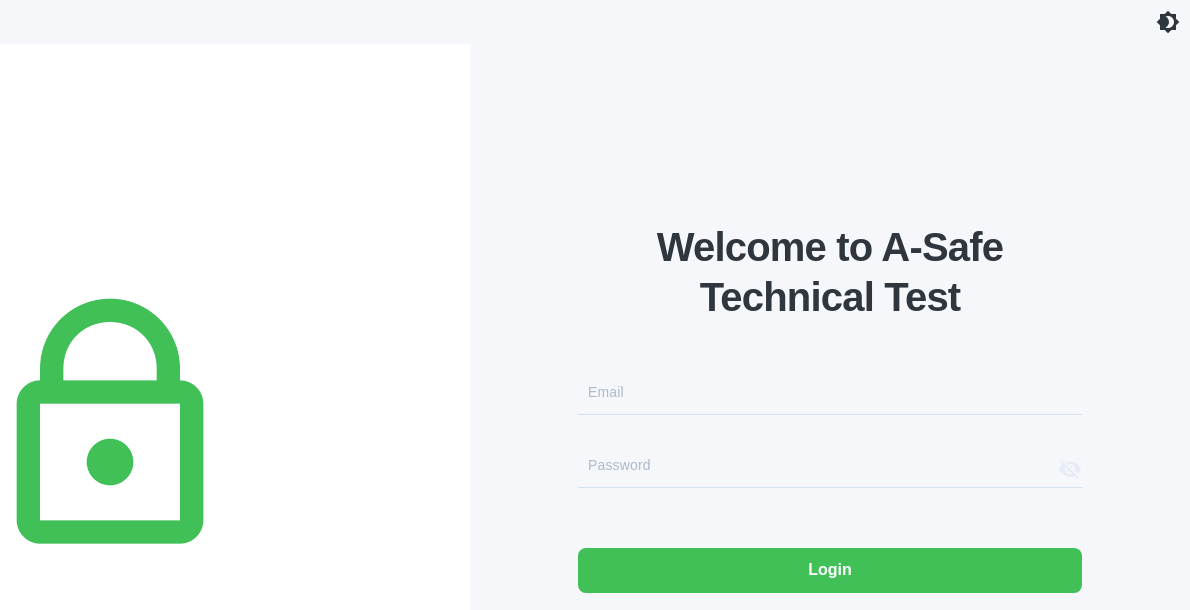
Scenario: SignIn Page › displays validation errors for empty fields
Click the button "Login".
click(830, 570)  # box [578,548,1082,593]
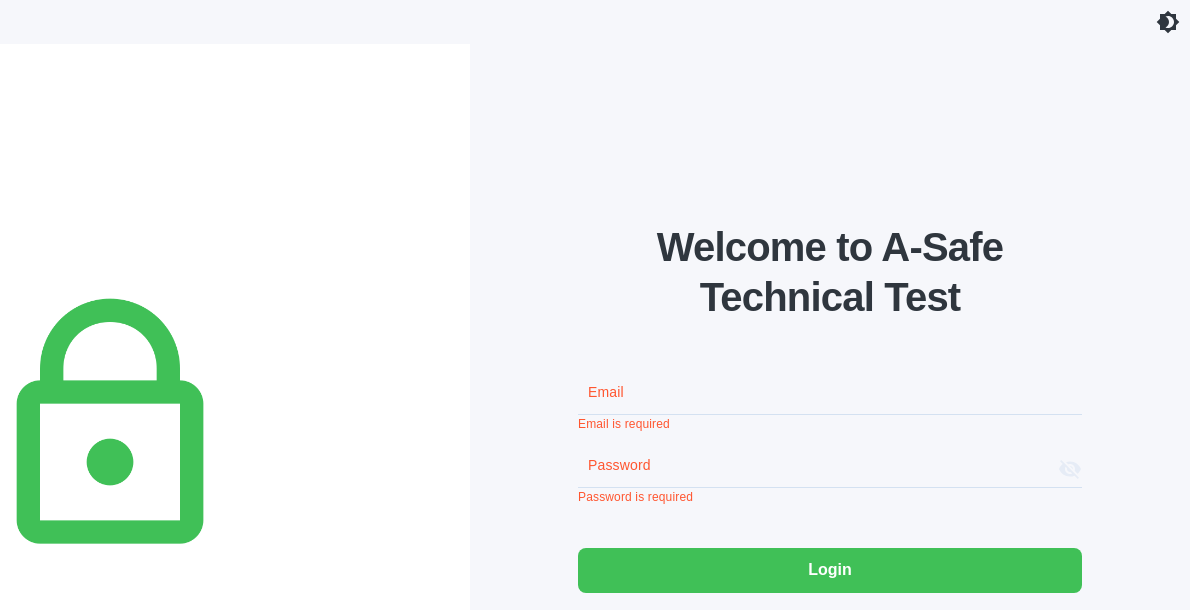
Expected: the text "Email is required" is shown, [578,415,670,433]
Expected: the text "Password is required" is shown, [578,488,693,506]
